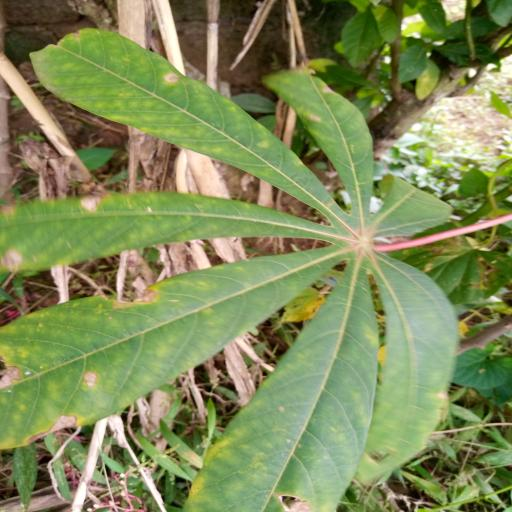Cassava_Brown_Leaf_Spot: (3, 23, 463, 512)
